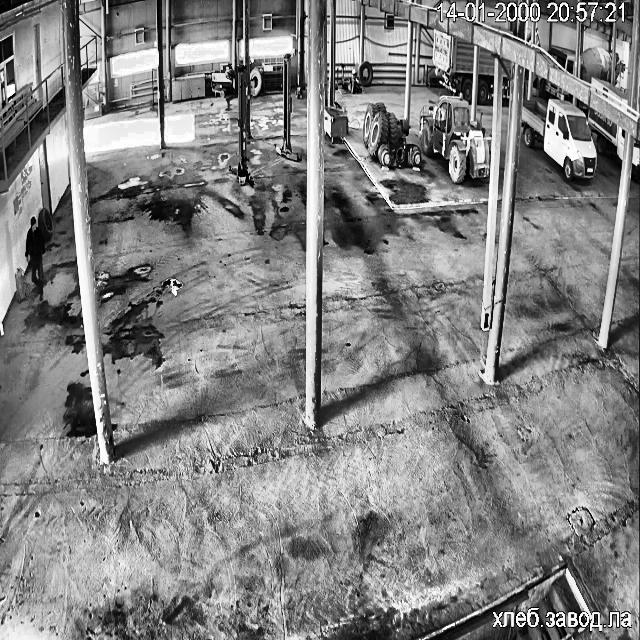car lift: (229, 66, 252, 185), (275, 52, 300, 161)
fire extinguisher: (16, 268, 24, 300)
mechanic: (25, 217, 44, 299)
tractor: (420, 96, 489, 182), (362, 102, 420, 166)
truck: (521, 100, 596, 180), (432, 28, 473, 100), (588, 108, 624, 158), (580, 46, 611, 82), (477, 48, 494, 102), (592, 78, 628, 102), (536, 77, 572, 99), (548, 45, 574, 73), (632, 140, 640, 178), (499, 75, 508, 97), (616, 57, 620, 76), (504, 60, 510, 70)
